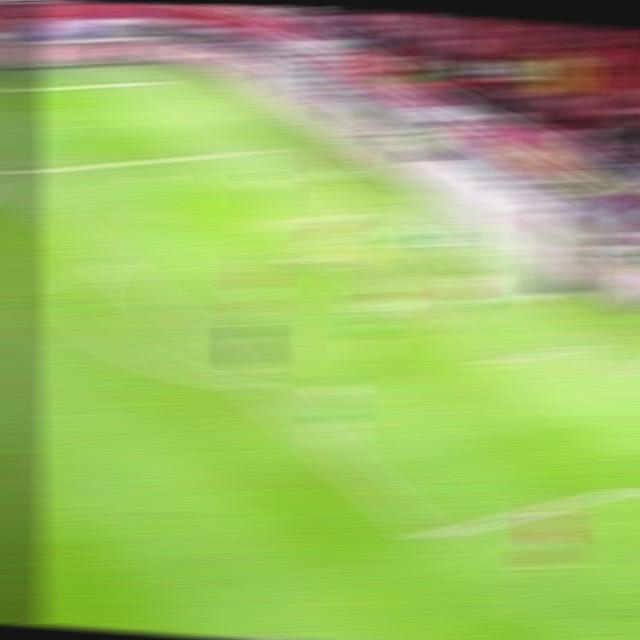bigarea_bottom_inner: (409, 521, 454, 555)
bigarea_top_inner: (1, 168, 26, 184)
bigarea_top_outter: (252, 139, 285, 156)
bottom_arc_area_intersection: (237, 378, 270, 396)
corner: (144, 76, 178, 86)
smallarea_bottom_inner: (471, 347, 510, 375)
smallarea_bottom_outter: (569, 334, 606, 353)
smallarea_top_inner: (271, 215, 305, 231)
smallarea_top_outter: (351, 201, 387, 221)
top_arc_area_intersection: (92, 253, 125, 270)
